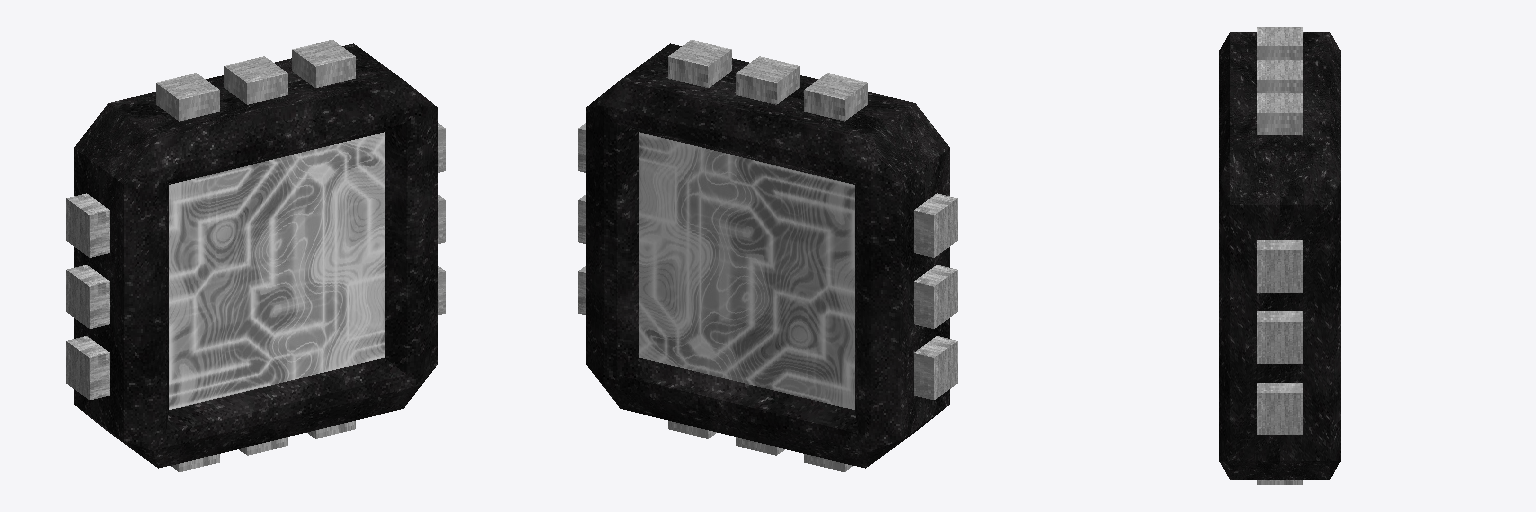
3 views of the same model, side by side, from view 1: azimuth 30°, elevation 25°; view 2: azimuth 150°, elevation 25°; view 3: azimuth 270°, elevation 25° (orthographic).
Parts seen in each view (by area): view 1: Cube.012_Cube.013; view 2: Cube.012_Cube.013; view 3: Cube.012_Cube.013.
Part boxes in pixels (x1,y1,x2,y2): Cube.012_Cube.013: (66, 40, 445, 471); Cube.012_Cube.013: (578, 40, 957, 471); Cube.012_Cube.013: (1219, 27, 1340, 484).
Size of the model in its own units: 0.4339 by 0.4339 by 0.1281.
2 materials, 1 textured.